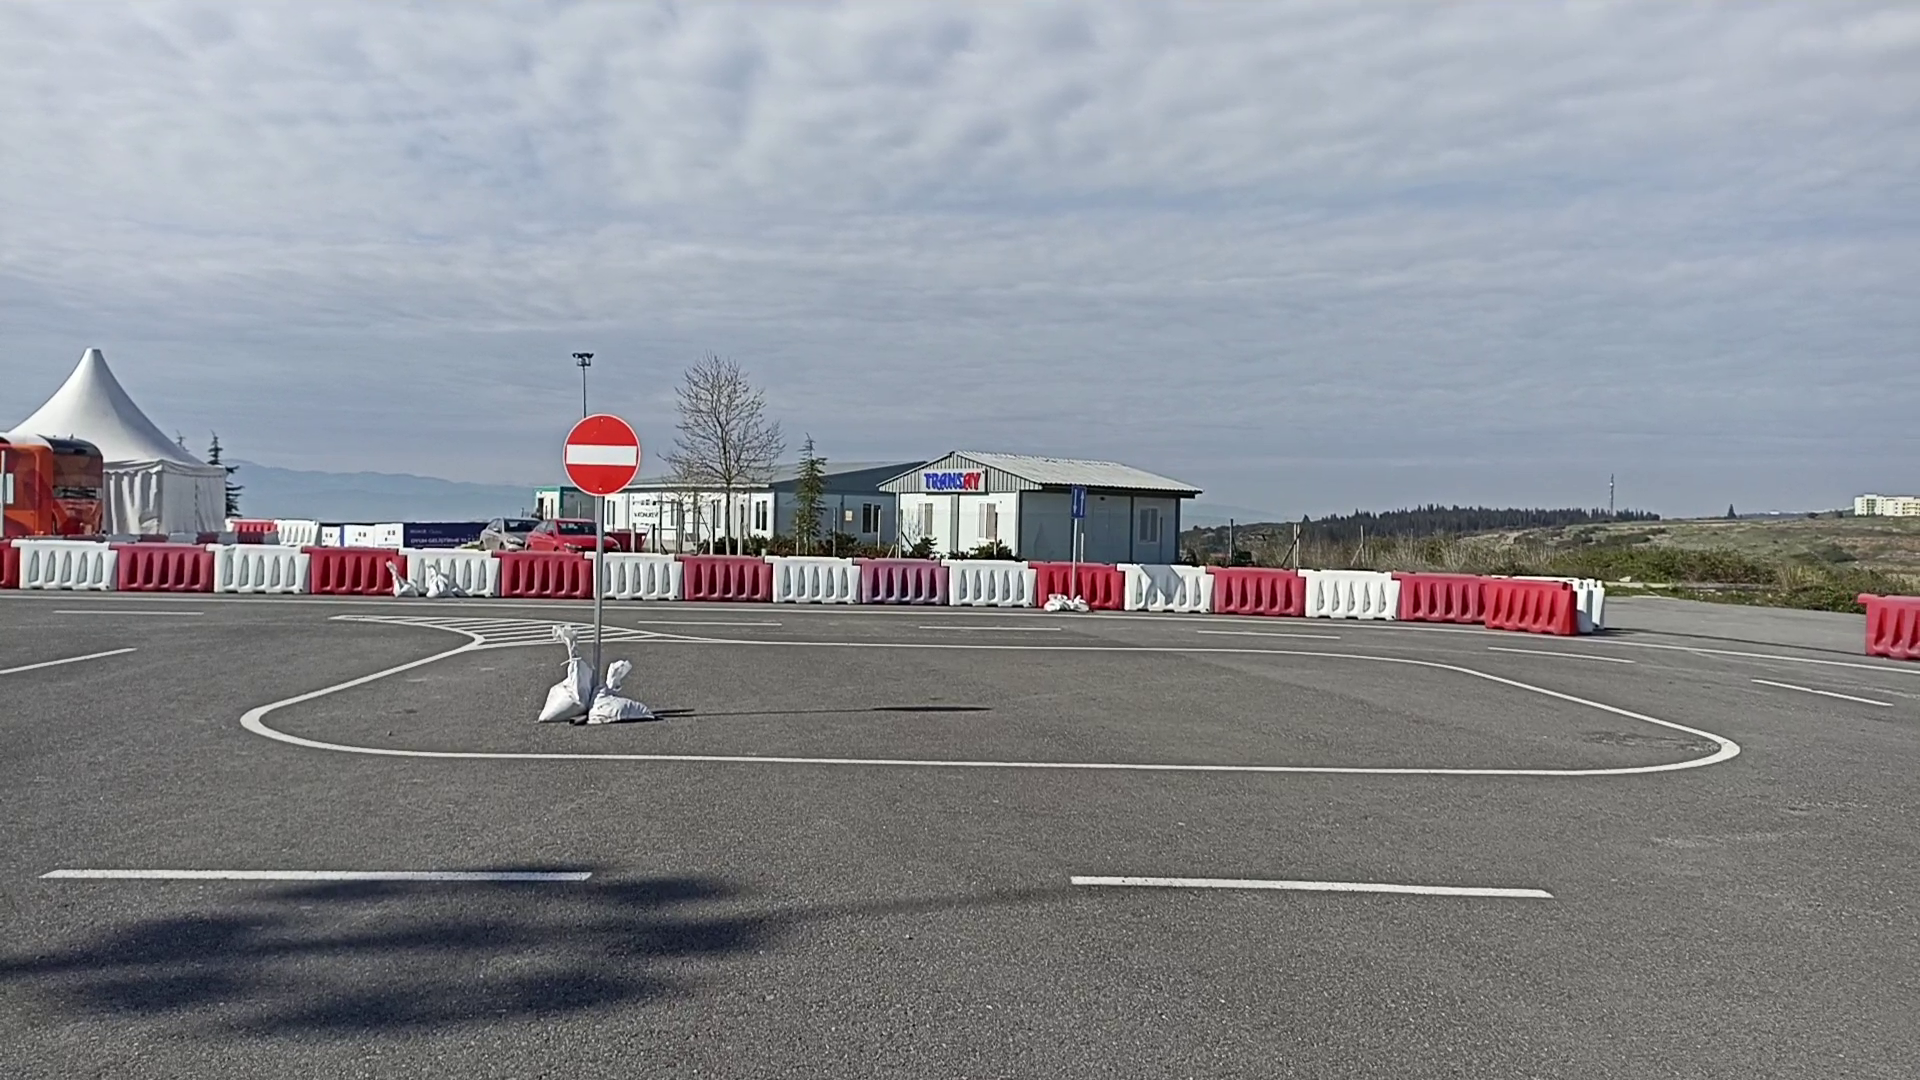noentryway: (560, 411, 642, 498)
